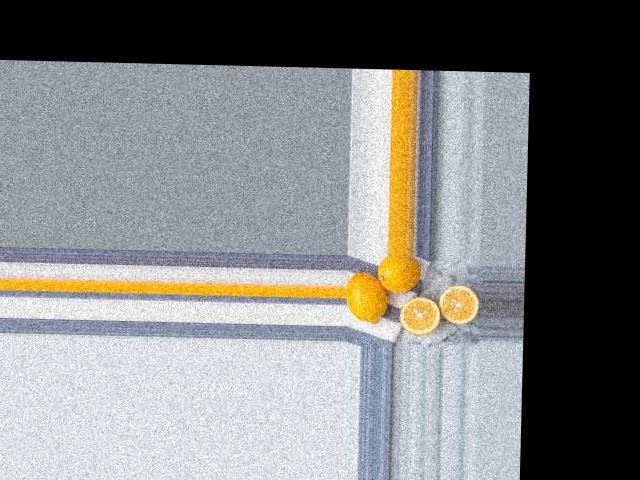lemon: (377, 255, 416, 292)
